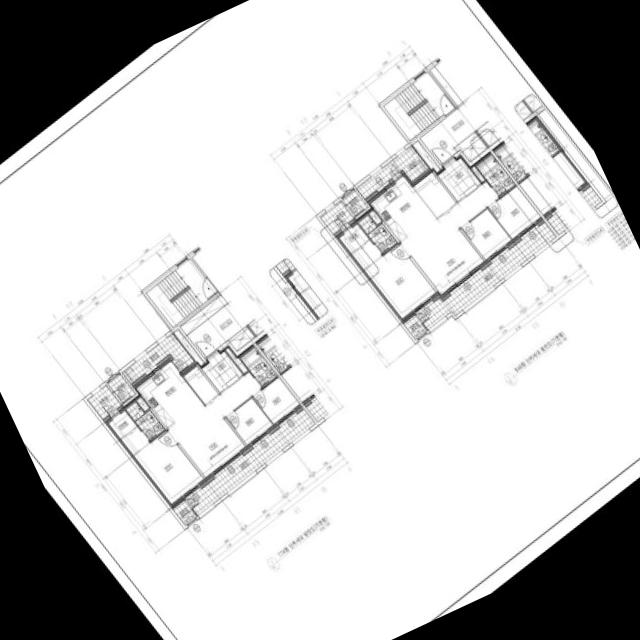background: (0, 0, 640, 640)
space_balconi: (415, 222, 556, 329), (185, 409, 315, 515), (357, 145, 429, 199), (122, 333, 194, 384), (87, 384, 121, 419), (320, 200, 354, 234)
space_bedroom: (362, 243, 438, 322), (132, 430, 205, 507), (488, 186, 542, 241), (462, 209, 513, 262), (253, 377, 301, 426), (226, 398, 274, 447)
space_dressroom: (335, 221, 382, 271), (105, 408, 149, 456)
space_elevator_hall: (187, 303, 246, 358), (420, 107, 476, 164)
space_front: (436, 155, 482, 202), (200, 349, 244, 393)
space_kitchen: (134, 359, 205, 432), (368, 174, 435, 243)
space_living_room: (401, 181, 498, 296), (171, 371, 261, 479)
space_other: (411, 169, 455, 217), (180, 294, 228, 335), (180, 363, 219, 405), (173, 329, 204, 365), (454, 132, 487, 161), (412, 140, 440, 172), (108, 374, 135, 403), (342, 189, 368, 216), (228, 326, 254, 351), (225, 347, 248, 373), (471, 166, 485, 182), (136, 397, 149, 411), (369, 210, 382, 224)
space_outdoor_room: (403, 315, 427, 339), (173, 500, 196, 525)
space_staircase: (383, 71, 454, 140), (146, 258, 217, 327)
space_toilet: (476, 154, 515, 196), (358, 214, 397, 254), (126, 401, 164, 440), (240, 347, 277, 387)
